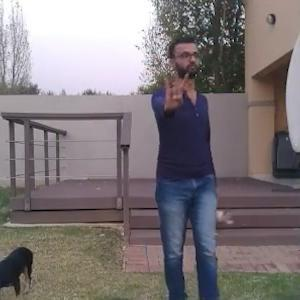takeoff-hand: (156, 67, 192, 112)
